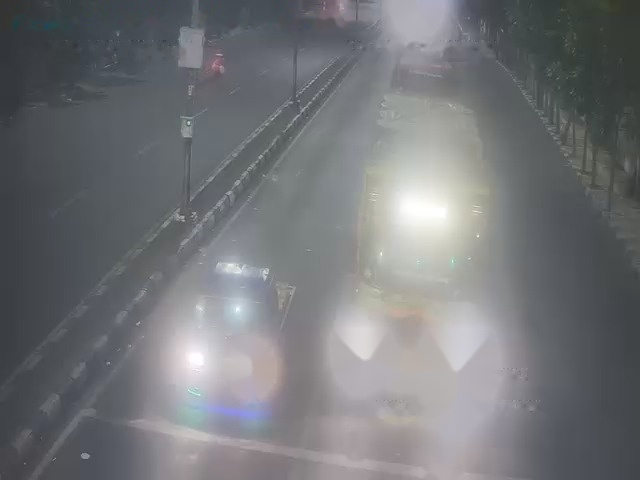Mobil: (184, 248, 293, 409)
Motor: (209, 60, 225, 75)
Truk: (349, 91, 497, 344)
